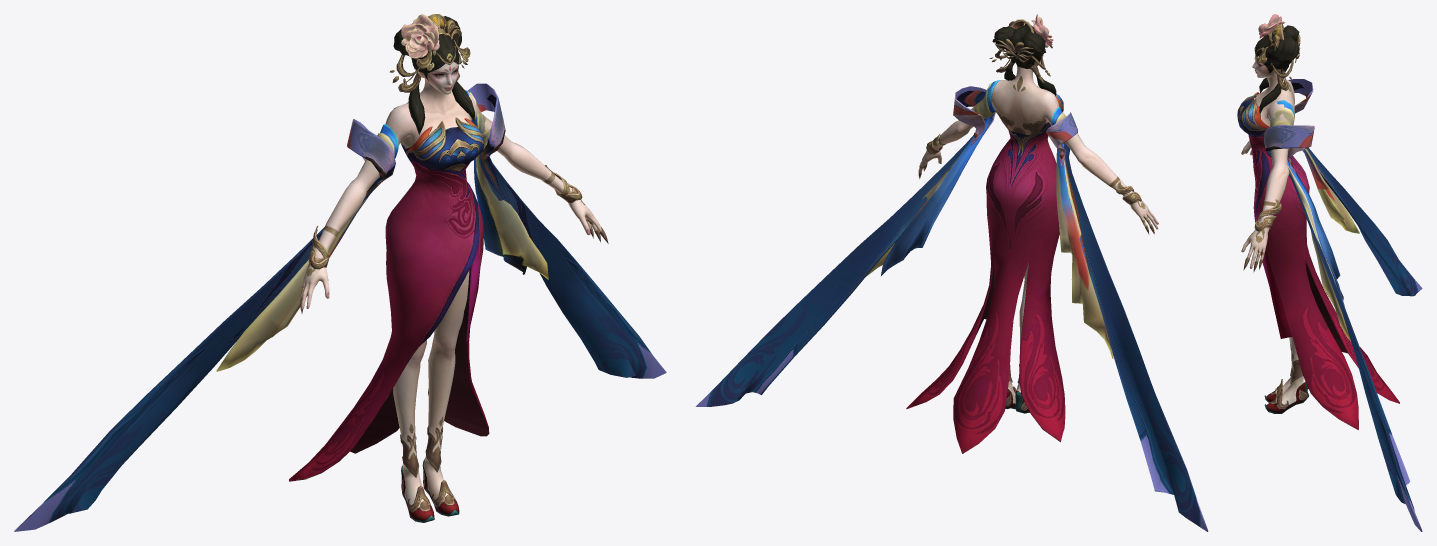
File: yyh.glb
3 views of the same model, side by side, from view 1: azimuth 30°, elevation 25°; view 2: azimuth 150°, elevation 25°; view 3: azimuth 270°, elevation 25° (orthographic). The views are drawn at different scales.
Visible parts, largest first — view 1: 1762_YangYuHuan_High01_0, 1762_YangYuHuan_PiaoDai_0, 1762_YangYuHuan_High02_0; view 2: 1762_YangYuHuan_High01_0, 1762_YangYuHuan_PiaoDai_0, 1762_YangYuHuan_High02_0; view 3: 1762_YangYuHuan_High01_0, 1762_YangYuHuan_PiaoDai_0, 1762_YangYuHuan_High02_0.
Part boxes in pixels (x1,y1,x2,y2): 1762_YangYuHuan_High01_0: (289, 14, 608, 522); 1762_YangYuHuan_PiaoDai_0: (14, 83, 666, 531); 1762_YangYuHuan_High02_0: (216, 90, 548, 371); 1762_YangYuHuan_High01_0: (906, 14, 1158, 453); 1762_YangYuHuan_PiaoDai_0: (695, 86, 1208, 531); 1762_YangYuHuan_High02_0: (866, 80, 1113, 358); 1762_YangYuHuan_High01_0: (1237, 14, 1399, 429); 1762_YangYuHuan_PiaoDai_0: (1263, 79, 1422, 531); 1762_YangYuHuan_High02_0: (1268, 100, 1359, 341).
Size of the model in its own units: 0.0026 by 0.00194 by 0.000835.
3 materials, 3 textured.
